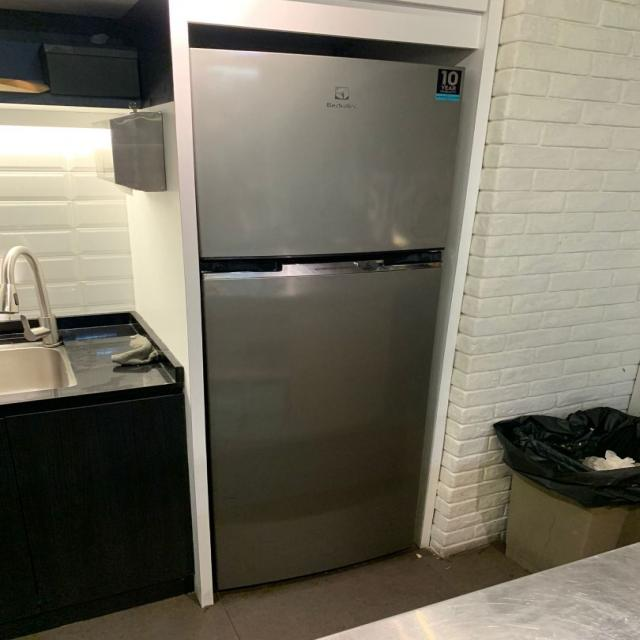refrigerator: (185, 0, 462, 631)
